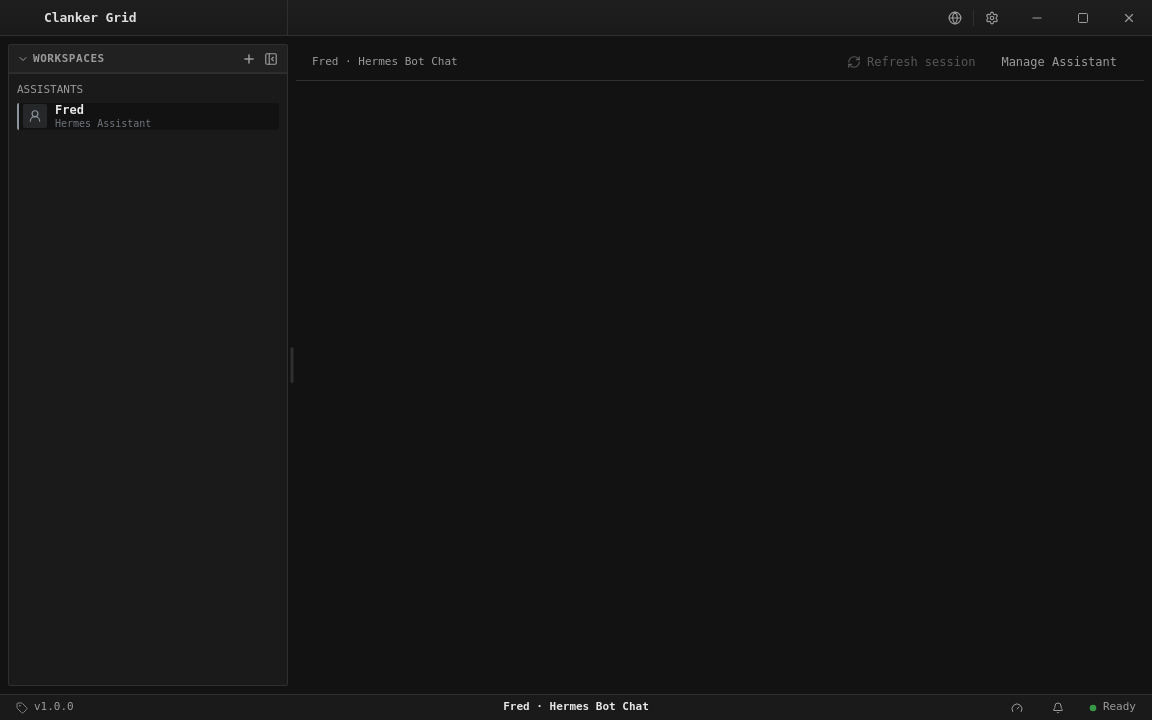
Test: transitions while Fred is active › a failed Workspace open leaves Fred active, mounted and untouched
What coordinates should you click on to do the following:
click the button named "Open Workspace"
I would click on:
 (249, 58)
Its box is [239,48,259,68].
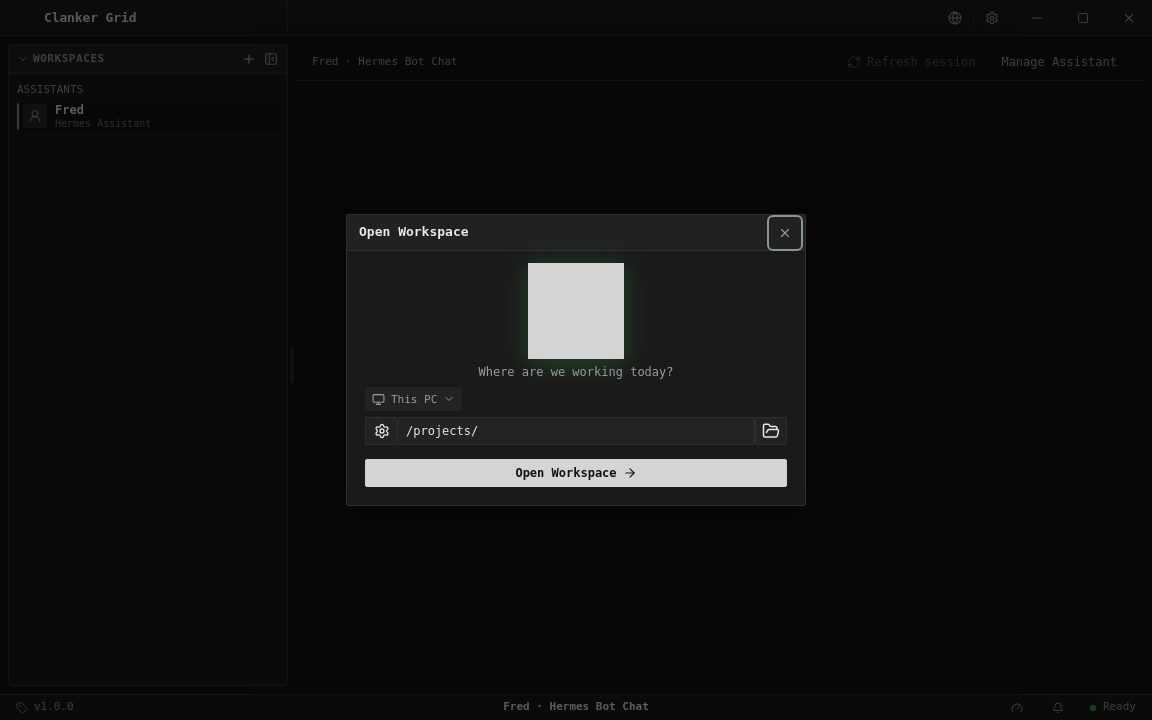
What coordinates should you click on to do the following:
click the button named "Choose Folder…"
I would click on:
 (771, 431)
Its box is [755,417,787,445].
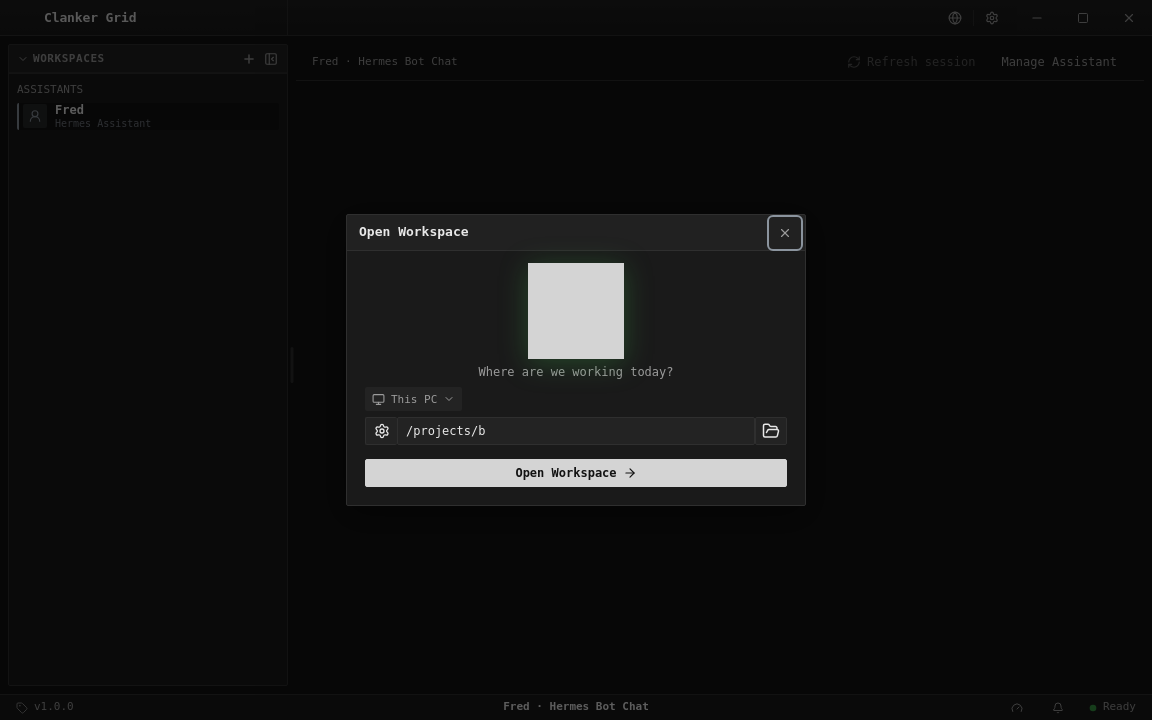
expect the field showing "/projects/b" is shown: met, box [397,417,755,445]
What coordinates should you click on to do the following:
click the button "Open Workspace"
I would click on:
 (576, 473)
Its box is [365,459,787,487].
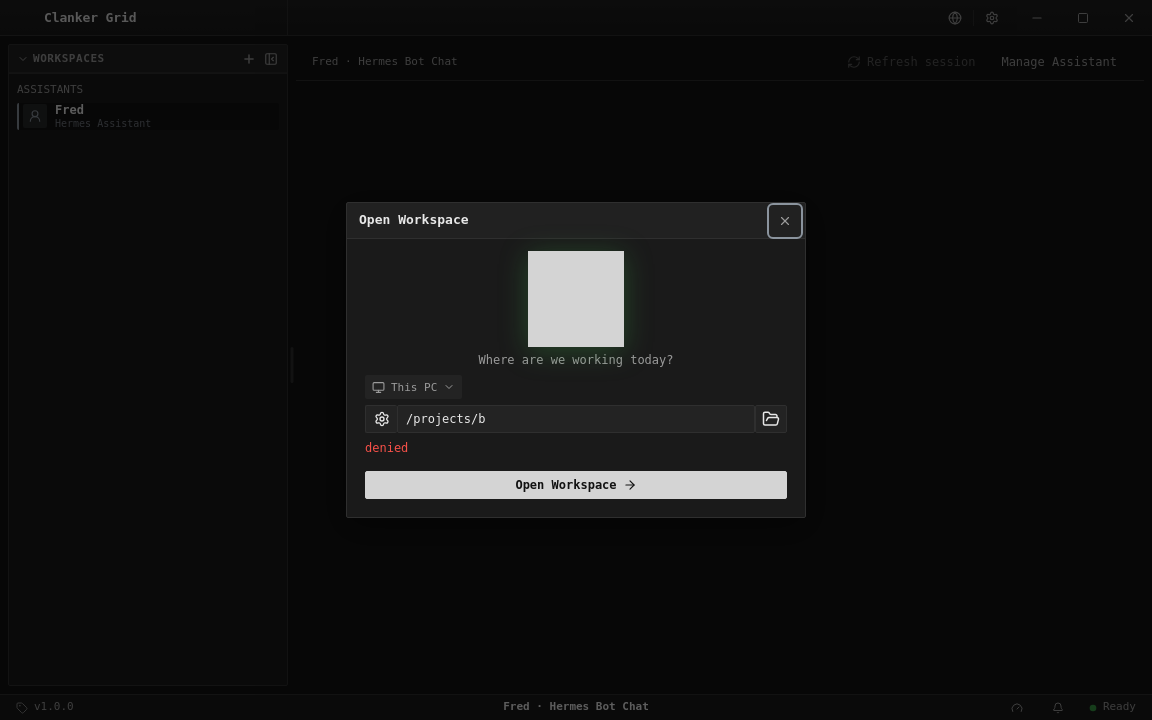
expect the message "denied" is shown: met, box [365,441,408,455]
